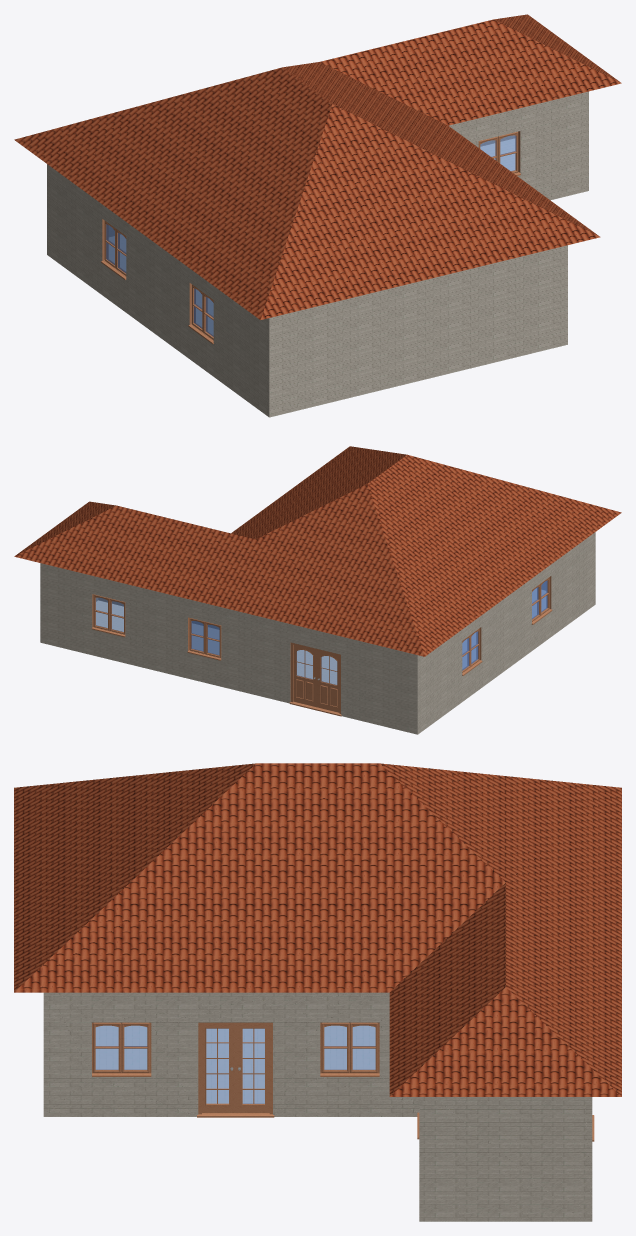
Rendered from telhado34.gltf.
The picture shows the model from 3 angles, top to bottom: view 1: azimuth 30°, elevation 25°; view 2: azimuth 150°, elevation 25°; view 3: azimuth 270°, elevation 25°; orthographic projection. The views are drawn at different scales.
Parts seen in each view (by area): view 1: root; view 2: root; view 3: root.
Boxes of the visible parts, box(x1,y1,x2,y2) form: root: box(14, 14, 621, 417); root: box(14, 446, 621, 734); root: box(14, 763, 621, 1221).
Bounding box in the file's own units: 14.8 × 5.89 × 12.3.
Materials: 10 (6 with a texture image).
